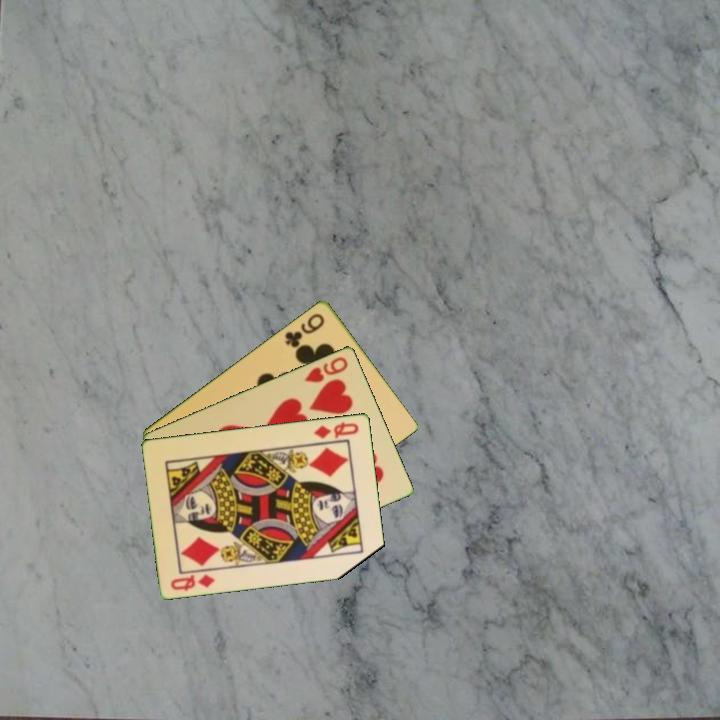9c: (281, 309, 328, 350)
9h: (301, 353, 351, 385)
Qd: (310, 418, 362, 441), (167, 570, 218, 593)
